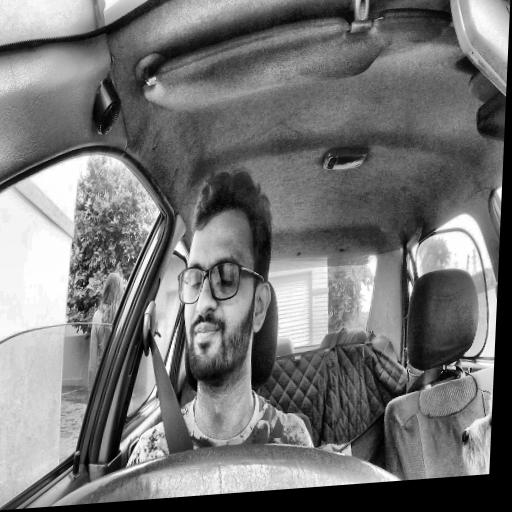drowsy: (172, 166, 276, 389)
